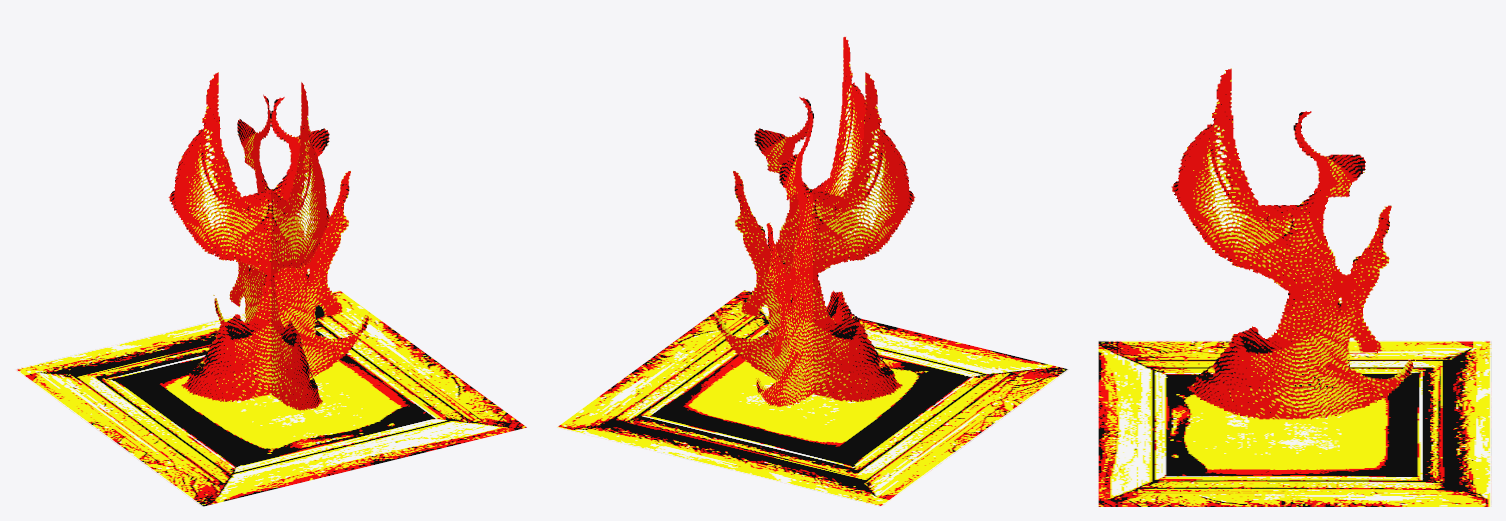
Rendered from tile_fire.glb.
3 views of the same model, side by side, from view 1: azimuth 30°, elevation 25°; view 2: azimuth 150°, elevation 25°; view 3: azimuth 270°, elevation 25° (orthographic). The views are drawn at different scales.
Visible parts, largest first — view 1: fire_frame, fire, fire.001; view 2: fire_frame, fire, fire.001; view 3: fire_frame, fire.001.
Boxes of the visible parts, box(x1,y1,x2,y2) form: fire_frame: box(14, 290, 526, 506); fire: box(168, 72, 370, 401); fire.001: box(213, 82, 329, 410); fire_frame: box(557, 290, 1069, 506); fire: box(713, 72, 915, 401); fire.001: box(755, 37, 866, 406); fire_frame: box(1098, 340, 1491, 506); fire.001: box(1171, 68, 1415, 419).
Size of the model in its own units: 1 by 1 by 1.
Materials: 2 (2 with a texture image).
